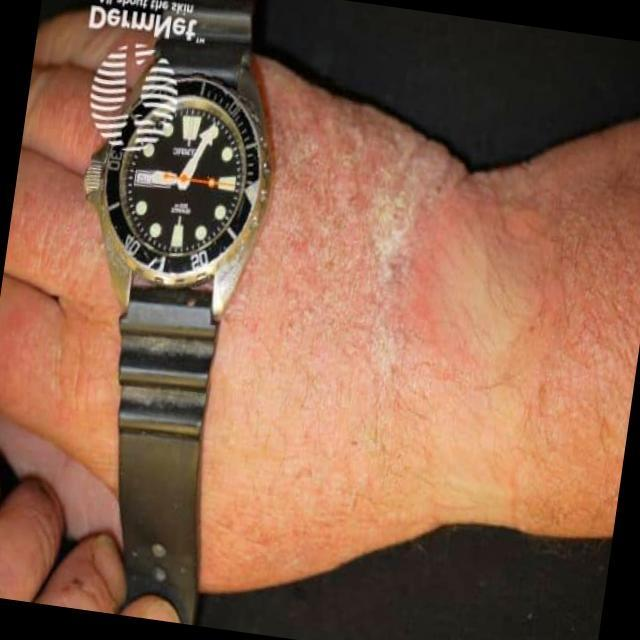Eczema: (248, 82, 445, 346)
